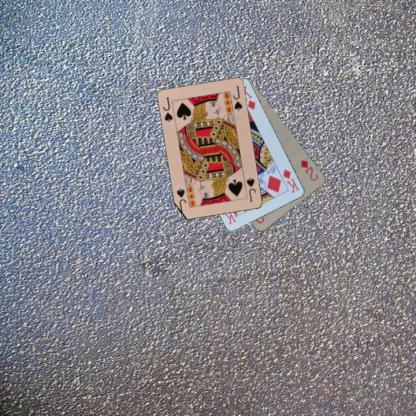2d: (298, 157, 320, 182)
Js: (244, 175, 257, 203), (161, 95, 174, 123)
Kd: (280, 167, 300, 194)
